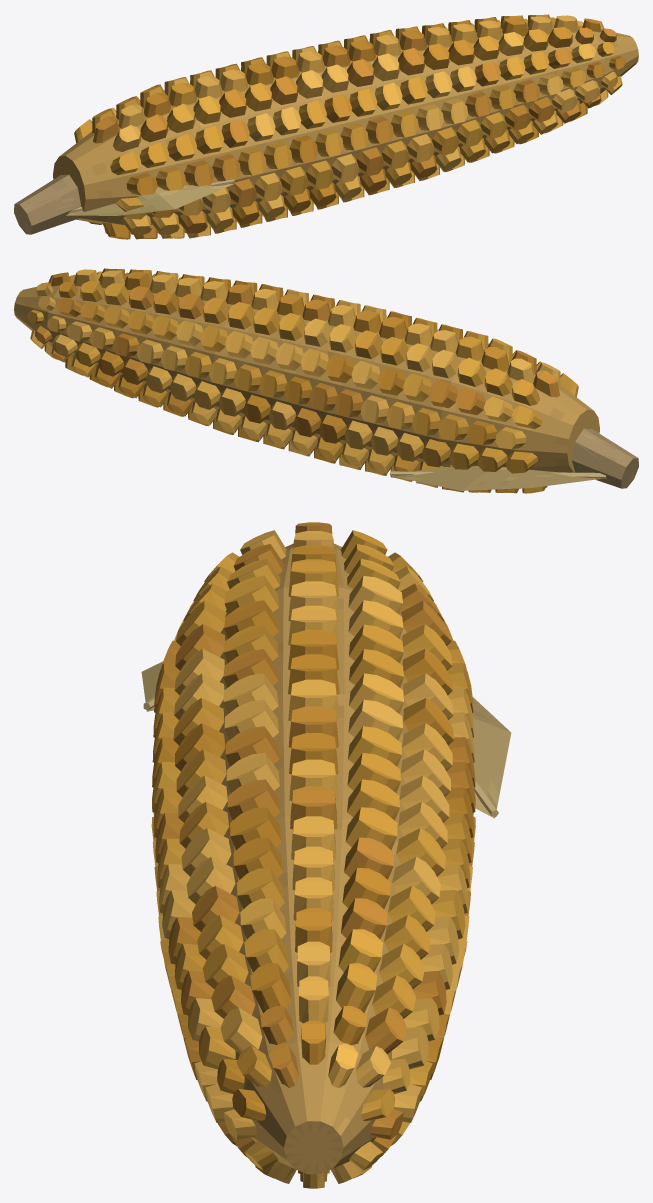
The model's file is popcorn_cob.glb.
The picture shows the model from 3 angles, top to bottom: view 1: azimuth 30°, elevation 25°; view 2: azimuth 150°, elevation 25°; view 3: azimuth 270°, elevation 25°; orthographic projection. The views are drawn at different scales.
Visible parts, largest first — view 1: block_small amber popcorn kernels in tight rows, block_tapered cob beneath the kernels (×7), block_dry cut stem, block_short inner husk blade, block_short inner husk tip; view 2: block_small amber popcorn kernels in tight rows, block_tapered cob beneath the kernels (×7), block_dry cut stem, block_folded dry husk blade, block_folded dry husk tip, block_folded dry husk vein; view 3: block_small amber popcorn kernels in tight rows, block_tapered cob beneath the kernels (×5), block_folded dry husk tip.
Boxes of the visible parts, x1,y1,x2,y2 form: block_small amber popcorn kernels in tight rows: [74, 14, 625, 239]; block_tapered cob beneath the kernels (×7): [53, 25, 638, 225]; block_dry cut stem: [14, 174, 80, 234]; block_short inner husk blade: [66, 191, 174, 215]; block_short inner husk tip: [155, 184, 233, 209]; block_small amber popcorn kernels in tight rows: [27, 268, 578, 493]; block_tapered cob beneath the kernels (×7): [14, 279, 599, 472]; block_dry cut stem: [572, 428, 638, 488]; block_folded dry husk blade: [462, 467, 601, 490]; block_folded dry husk tip: [391, 467, 485, 490]; block_folded dry husk vein: [389, 471, 606, 478]; block_small amber popcorn kernels in tight rows: [151, 522, 475, 1188]; block_tapered cob beneath the kernels (×5): [219, 587, 408, 1174]; block_folded dry husk tip: [473, 718, 511, 817].
Size of the model in its own units: 0.162 by 0.0372 by 0.0424.
Materials: 2 (2 with a texture image).
